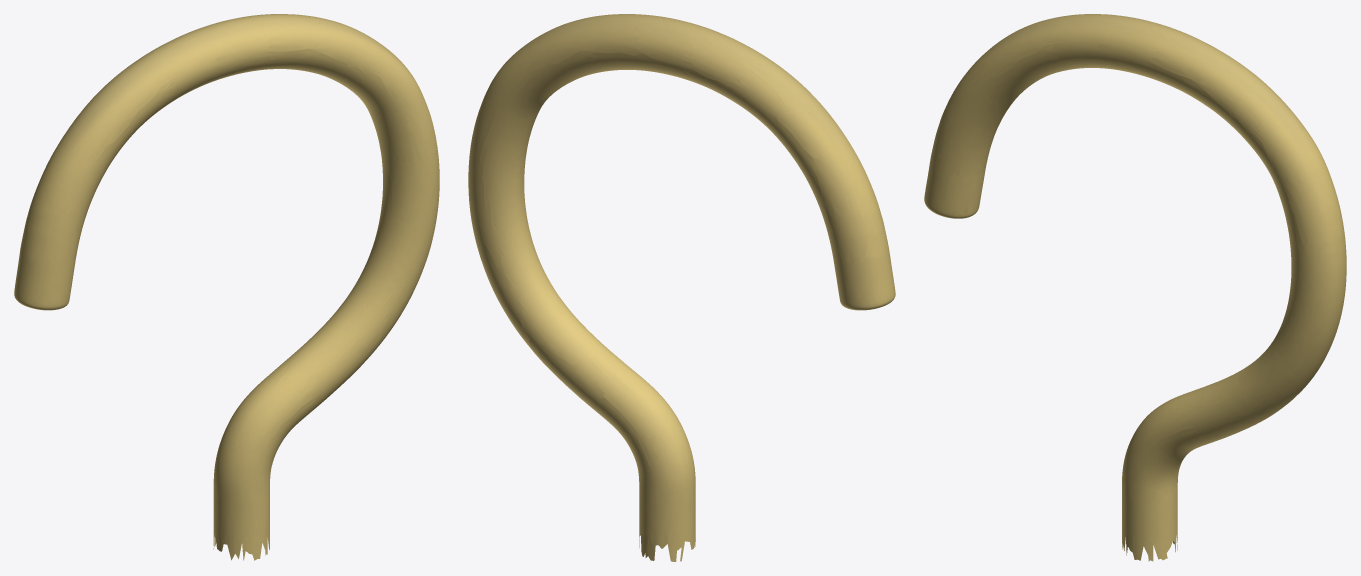
The model's file is question_hook.glb.
3 renders of one model, left to right at view 1: azimuth 30°, elevation 25°; view 2: azimuth 150°, elevation 25°; view 3: azimuth 330°, elevation 25°, orthographic.
Parts seen in each view (by area): view 1: GLTF; view 2: GLTF; view 3: GLTF.
Part boxes in pixels (box(x1,y1,x2,y2)): GLTF: box(14, 14, 439, 560); GLTF: box(468, 14, 895, 561); GLTF: box(924, 14, 1346, 561).
Size of the model in its own units: 0.3371 by 0.4079 by 0.0399.
Materials: 1 (1 with a texture image).
